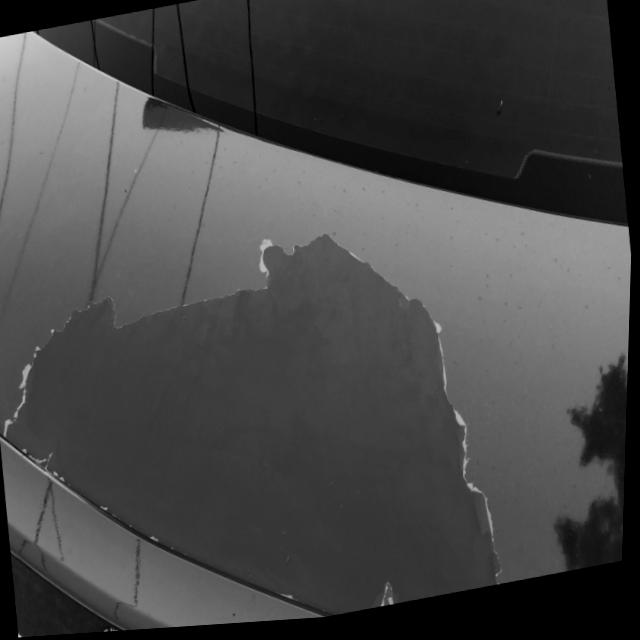Paint-fading: (0, 221, 503, 613)
